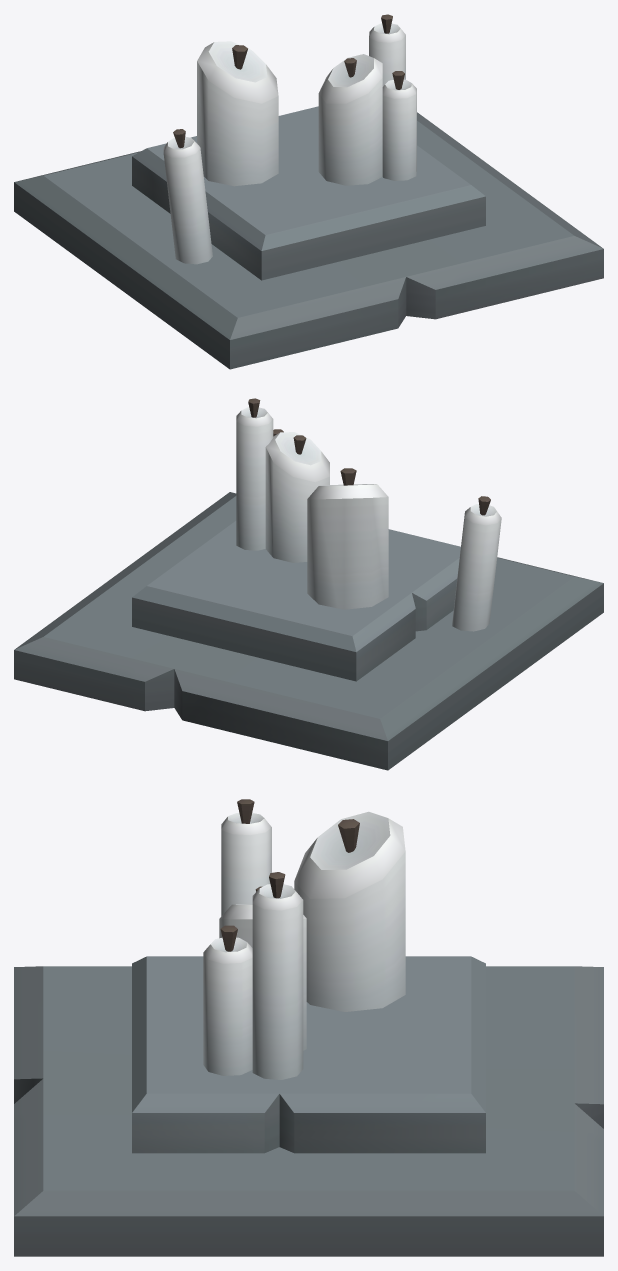
File: plaque_candles.glb
3 renders of one model, top to bottom at view 1: azimuth 30°, elevation 25°; view 2: azimuth 150°, elevation 25°; view 3: azimuth 270°, elevation 25°, orthographic. The views are drawn at different scales.
Parts seen in each view (by area): view 1: plaque_candles; view 2: plaque_candles; view 3: plaque_candles.
Boxes of the visible parts, <box> form: plaque_candles: <box>14,14,603,369</box>; plaque_candles: <box>14,398,603,770</box>; plaque_candles: <box>14,799,603,1256</box>.
Bounding box in the file's own units: 2 × 1.13 × 2.
1 material, 1 textured.
